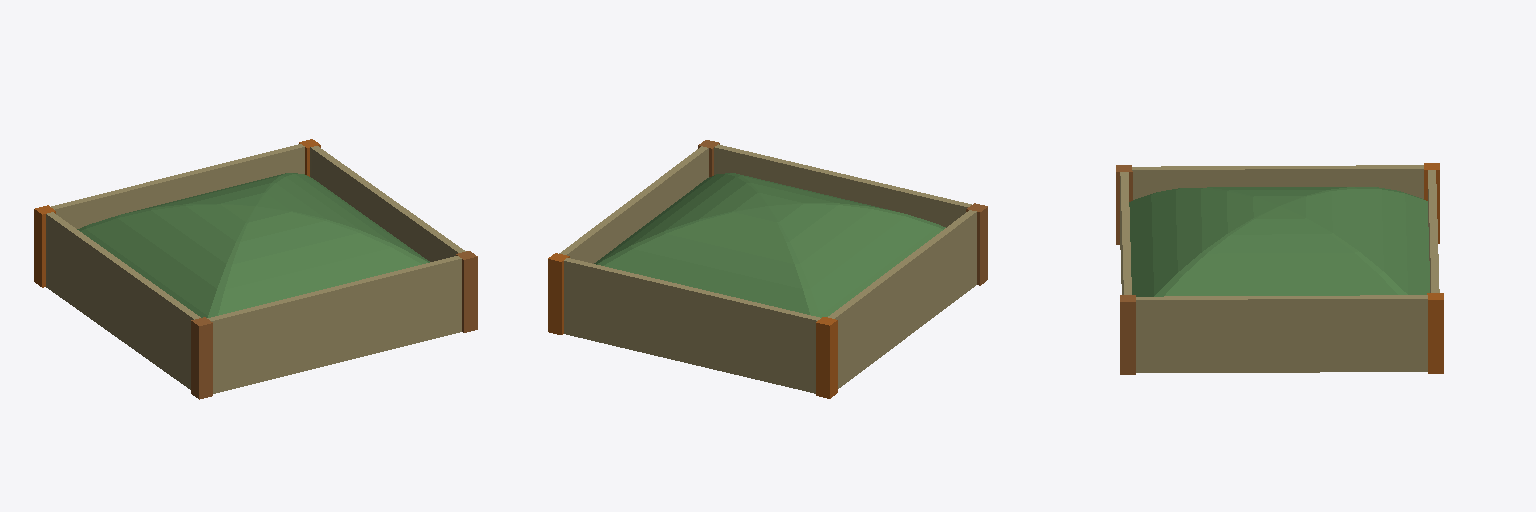
File: compostbin.obj
3 views of the same model, side by side, from view 1: azimuth 30°, elevation 25°; view 2: azimuth 150°, elevation 25°; view 3: azimuth 270°, elevation 25° (orthographic).
Visible parts, largest first — view 1: Mesh1 Group1 Group_3_1 Model, Mesh2 Group2 Group_3_1 Model; view 2: Mesh1 Group1 Group_3_1 Model, Mesh2 Group2 Group_3_1 Model; view 3: Mesh1 Group1 Group_3_1 Model, Mesh2 Group2 Group_3_1 Model.
Boxes of the visible parts, box(x1,y1,x2,y2) form: Mesh1 Group1 Group_3_1 Model: box(34, 139, 477, 399); Mesh2 Group2 Group_3_1 Model: box(77, 173, 429, 317); Mesh1 Group1 Group_3_1 Model: box(548, 140, 987, 398); Mesh2 Group2 Group_3_1 Model: box(594, 173, 945, 317); Mesh1 Group1 Group_3_1 Model: box(1116, 163, 1443, 374); Mesh2 Group2 Group_3_1 Model: box(1129, 187, 1429, 296).
Bounding box in the file's own units: 2.02 × 0.6813 × 2.02.